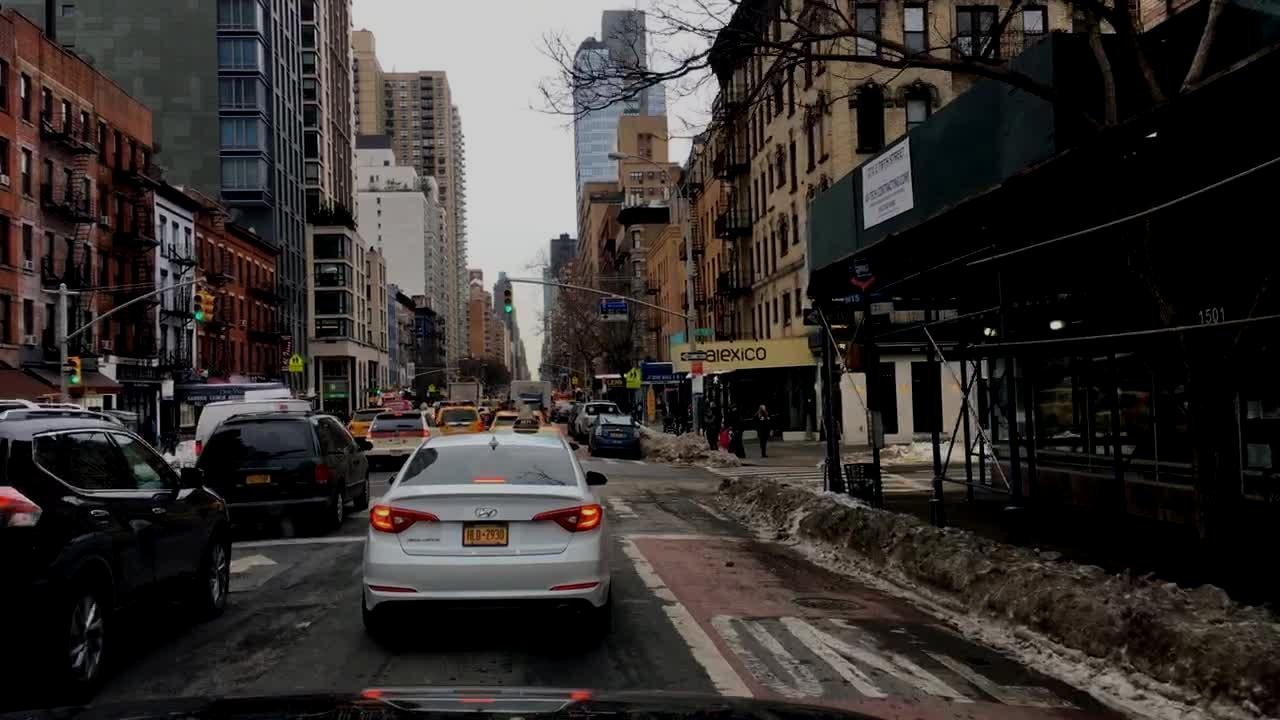Hyundai: (466, 499, 504, 524)
